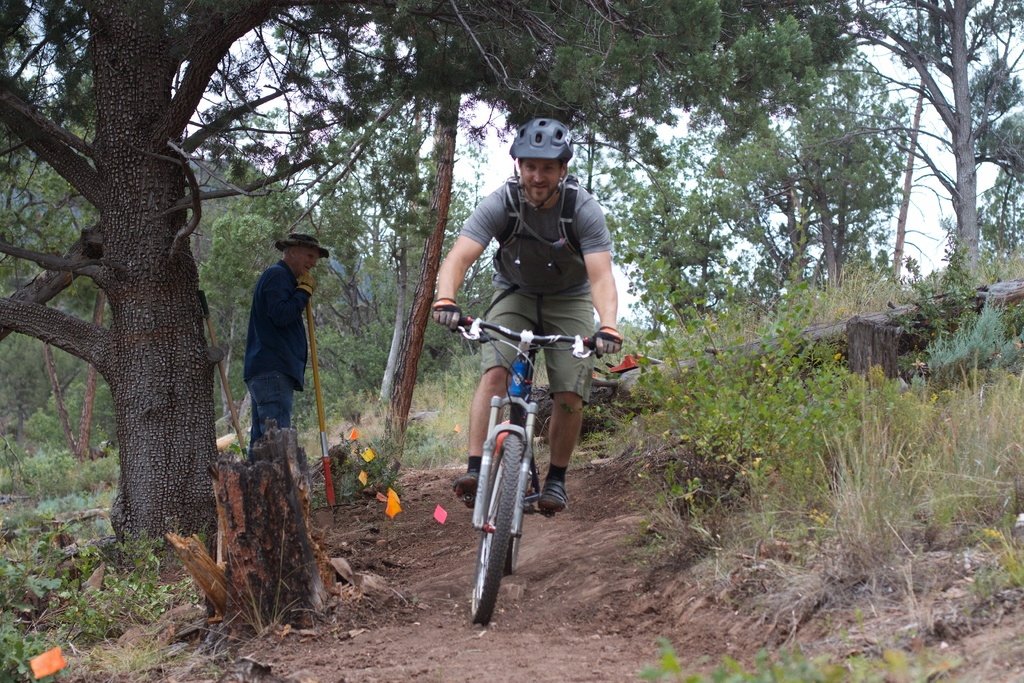Person: (430, 117, 623, 512), (242, 231, 329, 465)
